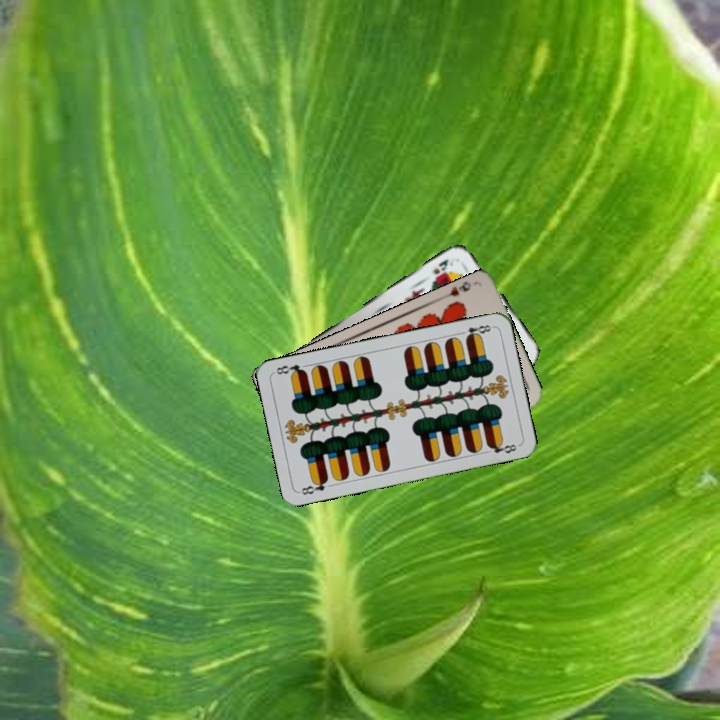E8: (455, 321, 496, 342), (296, 475, 331, 497)
H9: (440, 278, 474, 301)
SK: (429, 255, 456, 277)
